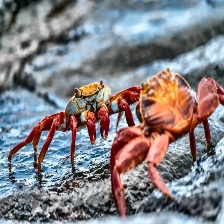crab: (108, 69, 224, 220)
